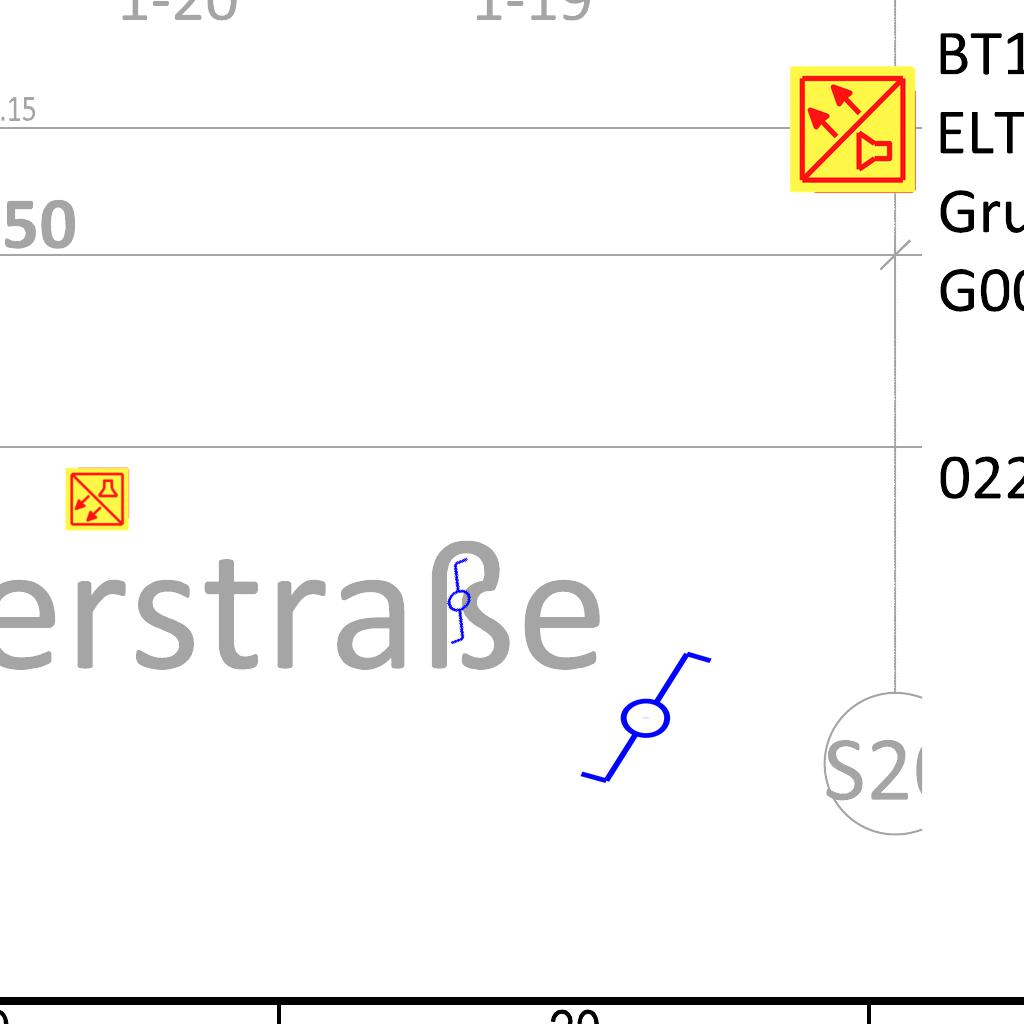OKW_Multisensormelder_(Kombination_optischer_Rauch-Kahlenmonoxid_Waerme-Melder): (787, 63, 919, 195), (64, 466, 130, 532)
Wechselschalter: (559, 644, 716, 788), (410, 546, 516, 652)
